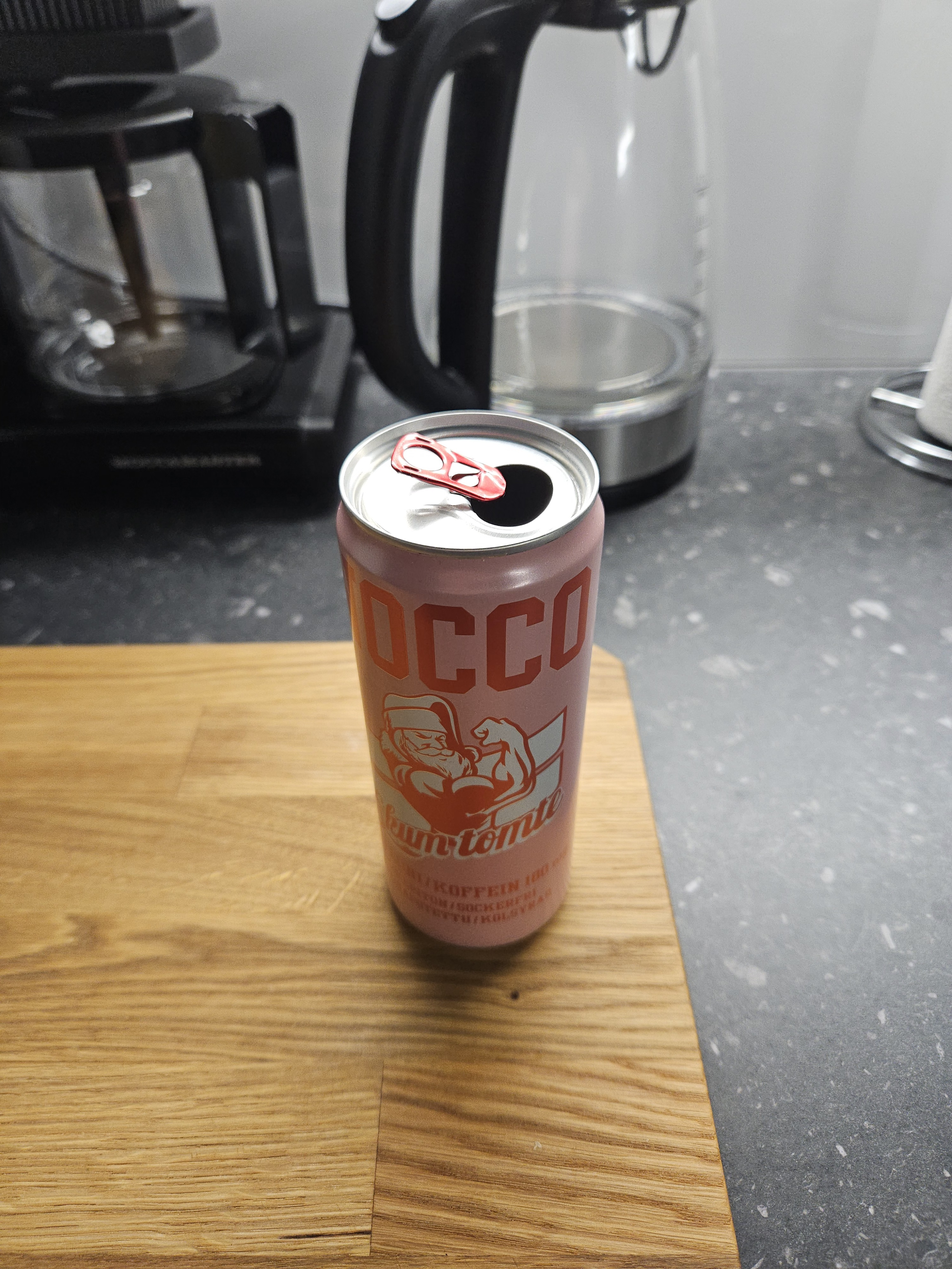Pantburk: (337, 408, 607, 957)
